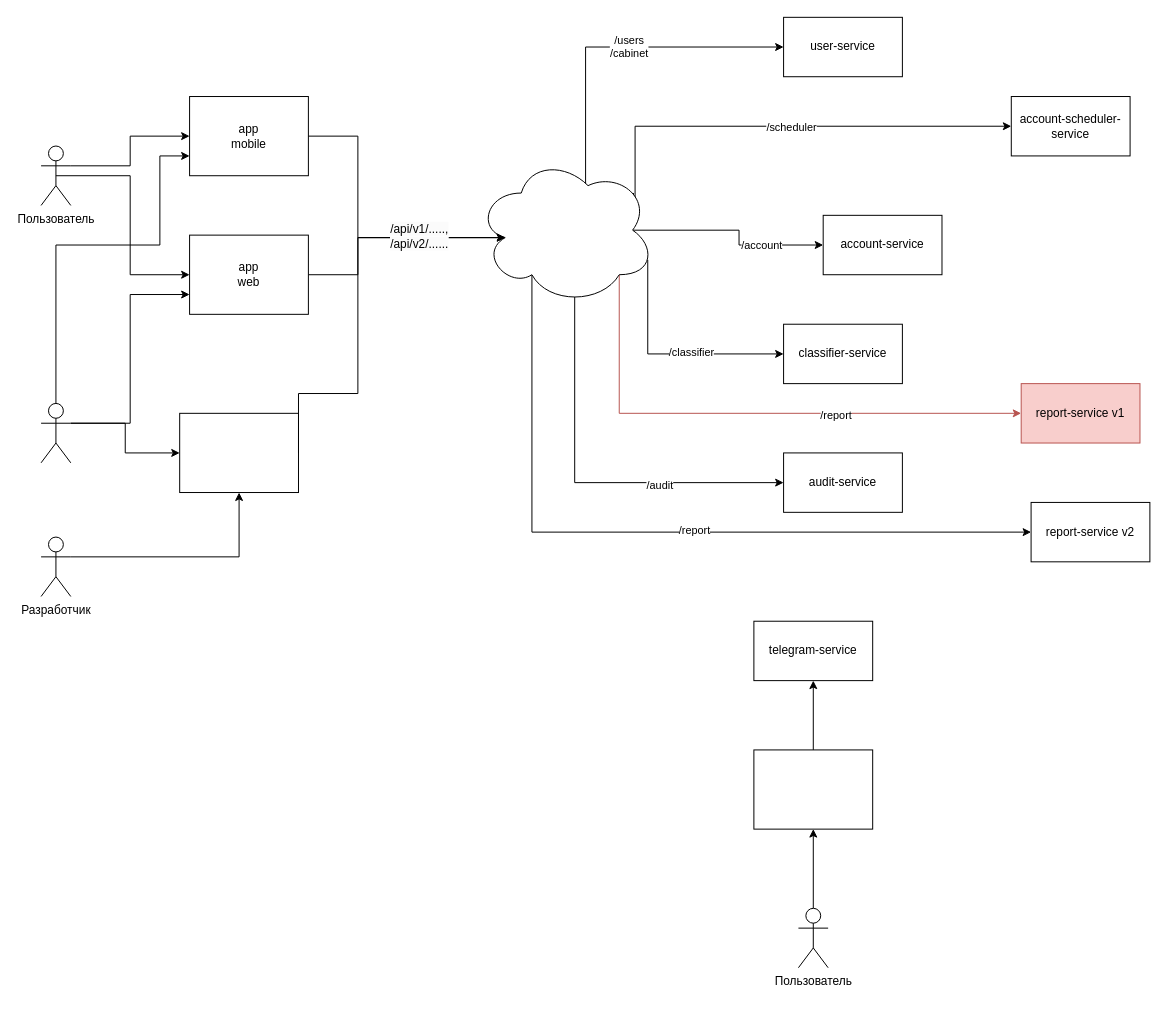
The diagram is 1167 pixels wide and 1021 high, and some of its shapes have lost their labels. Each missing label, with the centre of its shape:
API GETWAY (входная точка) L7 Balancer\ Proxy\ Router: point (565, 229)
postman: point (238, 452)
telegram bot: point (813, 789)
Тестировщик: point (55, 432)
